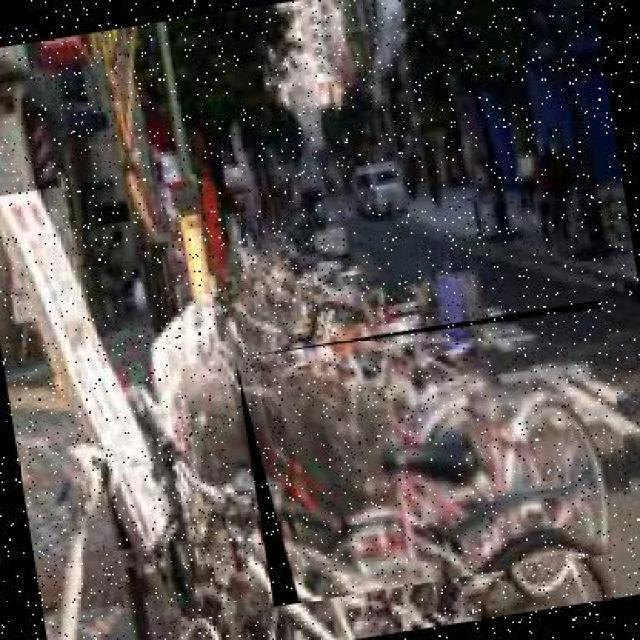bicycle: (235, 300, 640, 611)
